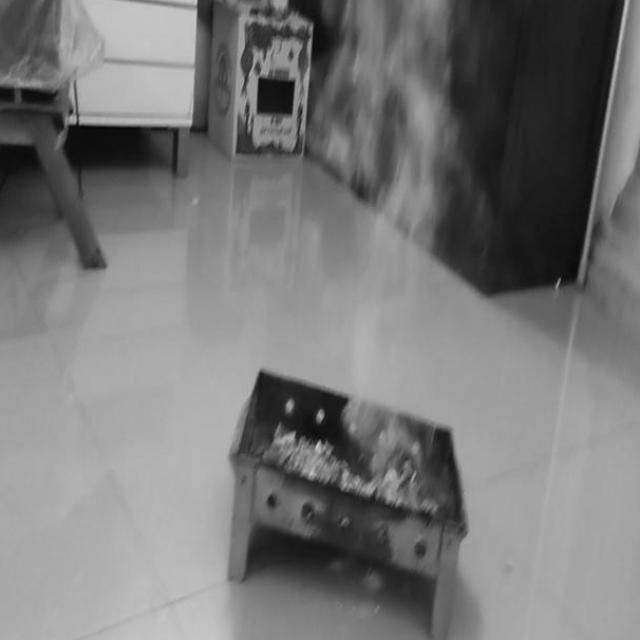fire: (324, 0, 455, 255), (342, 284, 420, 446)
